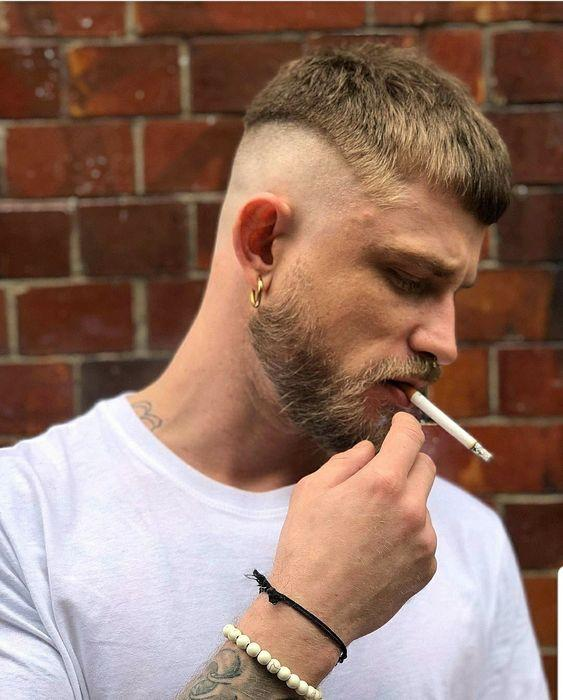cigarette: (395, 383, 492, 462)
